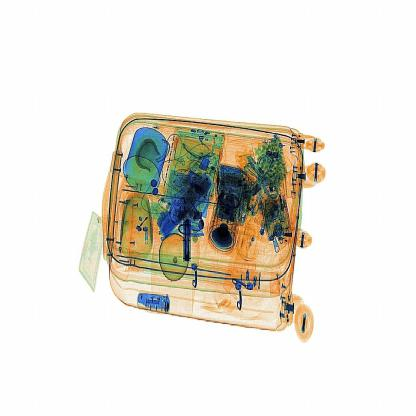scissors: (174, 201, 202, 270)
